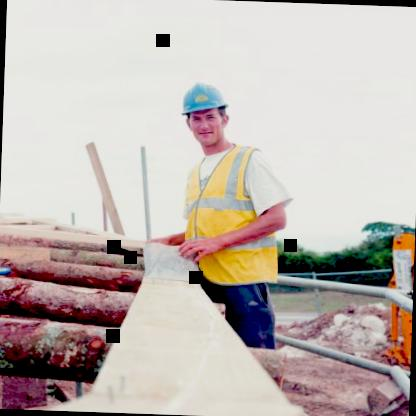helmet: (178, 80, 234, 154)
